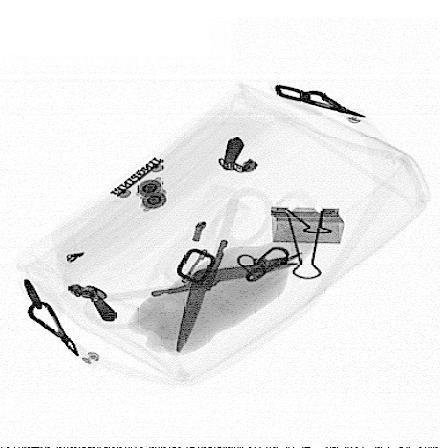Scissors: (79, 185, 301, 354)
